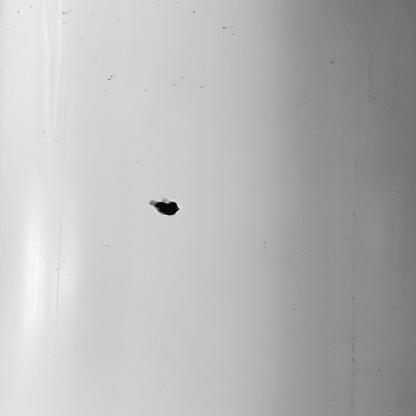kongdong: (144, 187, 189, 223)
